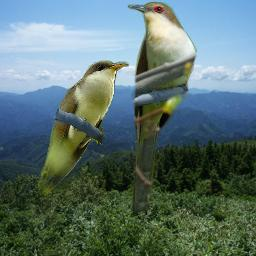Cuckoo: (127, 1, 198, 212), (36, 60, 129, 196)
